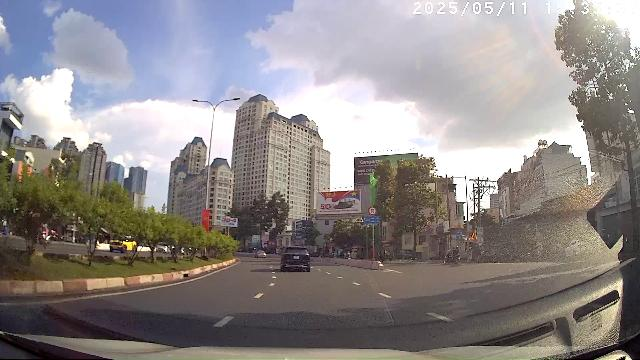127-toc-do-toi-da-70: (368, 207, 376, 215)
